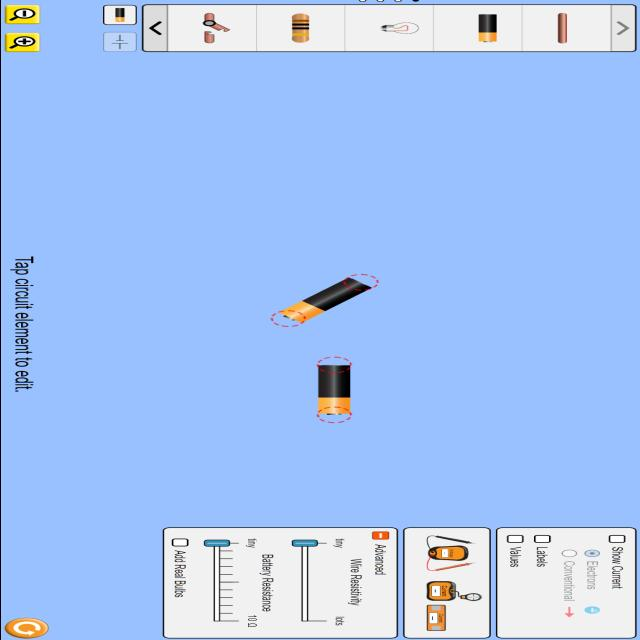Battery: (279, 278, 372, 322), (319, 365, 351, 398)
